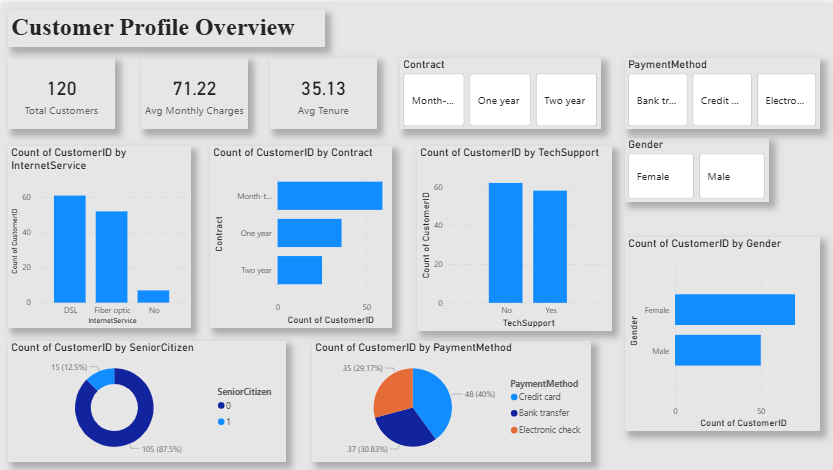

This screenshot's page, from the dashboard's own definition file:
{"tool":"powerbi","page":{"name":"Page 2","canvas":[1280,720],"ordinal":1},"visuals":[{"type":"card","fields":{"Values":["customer_churn_dataset.Total Customers"]},"box":[10,84.3,164.3,110],"z":0},{"type":"barChart","fields":{"Category":["customer_churn_dataset.Gender"],"Y":["CountNonNull(customer_churn_dataset.CustomerID)"]},"box":[960,360,300,298.6],"z":1000},{"type":"donutChart","fields":{"Category":["customer_churn_dataset.SeniorCitizen"],"Y":["CountNonNull(customer_churn_dataset.CustomerID)"]},"box":[10,520,427.1,185.7],"z":2000},{"type":"columnChart","fields":{"Category":["customer_churn_dataset.InternetService"],"Y":["CountNonNull(customer_churn_dataset.CustomerID)"]},"box":[10,220,281.4,280],"z":3000},{"type":"columnChart","fields":{"Category":["customer_churn_dataset.TechSupport"],"Y":["CountNonNull(customer_churn_dataset.CustomerID)"]},"box":[640,220,300,284.3],"z":4000},{"type":"barChart","fields":{"Category":["customer_churn_dataset.Contract"],"Y":["CountNonNull(customer_churn_dataset.CustomerID)"]},"box":[321.4,220,280,280],"z":5000},{"type":"pieChart","fields":{"Category":["customer_churn_dataset.PaymentMethod"],"Y":["CountNonNull(customer_churn_dataset.CustomerID)"]},"box":[478.6,520,430,185.7],"z":6000},{"type":"advancedSlicerVisual","fields":{"Values":["customer_churn_dataset.Gender"]},"box":[960,208.3,221.7,98.3],"z":7000},{"type":"advancedSlicerVisual","fields":{"Values":["customer_churn_dataset.Contract"]},"box":[614.3,84.3,310,110],"z":8000},{"type":"advancedSlicerVisual","fields":{"Values":["customer_churn_dataset.PaymentMethod"]},"box":[960,84.3,300,110],"z":9000},{"type":"card","fields":{"Values":["customer_churn_dataset.Avg Monthly Charges"]},"box":[215.7,84.3,164.3,110],"z":10000},{"type":"card","fields":{"Values":["customer_churn_dataset.Avg Tenure"]},"box":[414.3,84.3,164.3,110],"z":11000},{"type":"textbox","box":[10,11.4,487.1,57.1],"z":12000}]}

Visuals, with their boxes in screenshot pixels (x1, y1, x2, y2), scaled from the page's 1280x720 canvas onto the 833x470 screenshot:
card - customer_churn_dataset.Total Customers: [7,55,113,127]
barChart - customer_churn_dataset.Gender x CountNonNull(customer_churn_dataset.CustomerID): [625,235,820,430]
donutChart - customer_churn_dataset.SeniorCitizen x CountNonNull(customer_churn_dataset.CustomerID): [7,339,284,461]
columnChart - customer_churn_dataset.InternetService x CountNonNull(customer_churn_dataset.CustomerID): [7,144,190,326]
columnChart - customer_churn_dataset.TechSupport x CountNonNull(customer_churn_dataset.CustomerID): [416,144,612,329]
barChart - customer_churn_dataset.Contract x CountNonNull(customer_churn_dataset.CustomerID): [209,144,391,326]
pieChart - customer_churn_dataset.PaymentMethod x CountNonNull(customer_churn_dataset.CustomerID): [311,339,591,461]
advancedSlicerVisual - customer_churn_dataset.Gender: [625,136,769,200]
advancedSlicerVisual - customer_churn_dataset.Contract: [400,55,602,127]
advancedSlicerVisual - customer_churn_dataset.PaymentMethod: [625,55,820,127]
card - customer_churn_dataset.Avg Monthly Charges: [140,55,247,127]
card - customer_churn_dataset.Avg Tenure: [270,55,377,127]
textbox: [7,7,324,45]
